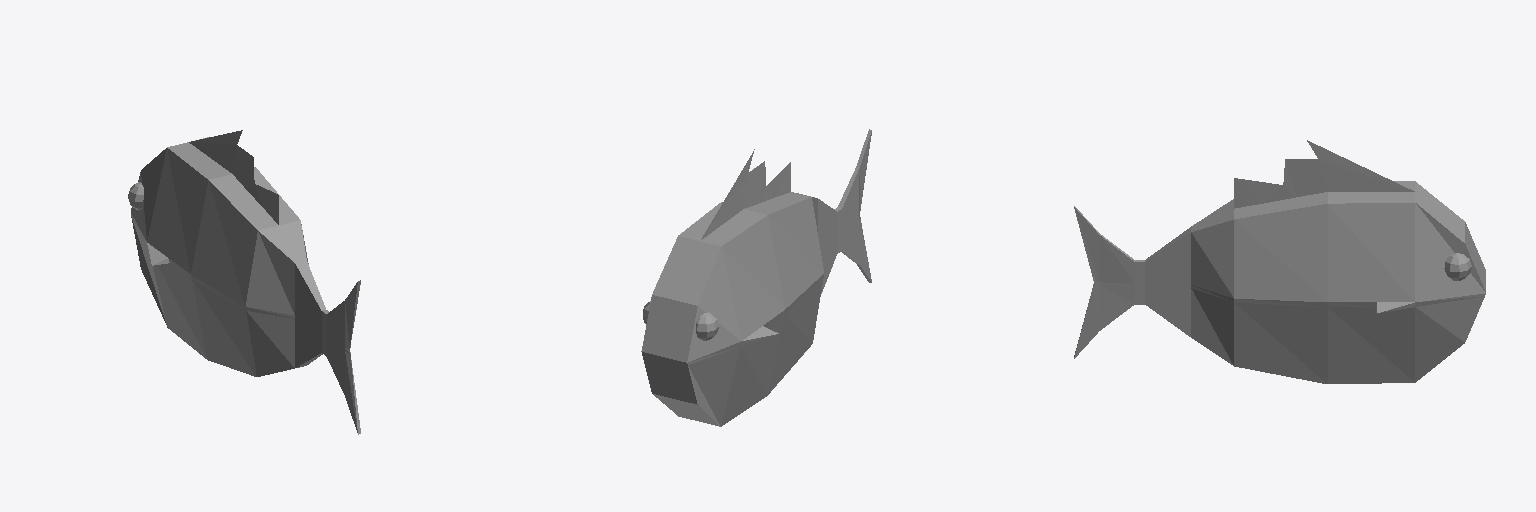
Rendered from ryba.obj.
The picture shows the model from 3 angles: view 1: azimuth 30°, elevation 25°; view 2: azimuth 150°, elevation 25°; view 3: azimuth 270°, elevation 25°; orthographic projection.
Visible parts, largest first — view 1: Cube_Cube.002; view 2: Cube_Cube.002; view 3: Cube_Cube.002.
Boxes of the visible parts, x1=… form: Cube_Cube.002: x1=128, y1=130, x2=360, y2=434; Cube_Cube.002: x1=641, y1=129, x2=871, y2=426; Cube_Cube.002: x1=1074, y1=140, x2=1485, y2=383.
Size of the model in its own units: 0.5343 by 1.03 by 1.66.